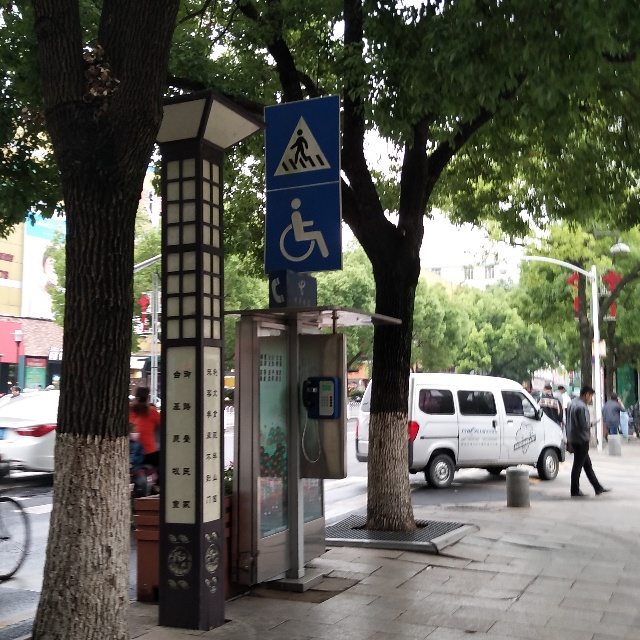crosswalk: (267, 106, 340, 180)
